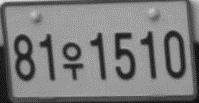0: (163, 29, 186, 79)
1: (89, 31, 107, 81), (139, 30, 157, 79), (38, 32, 55, 81)
5: (114, 31, 135, 80)
8: (13, 33, 36, 81)
우: (61, 42, 83, 80)
